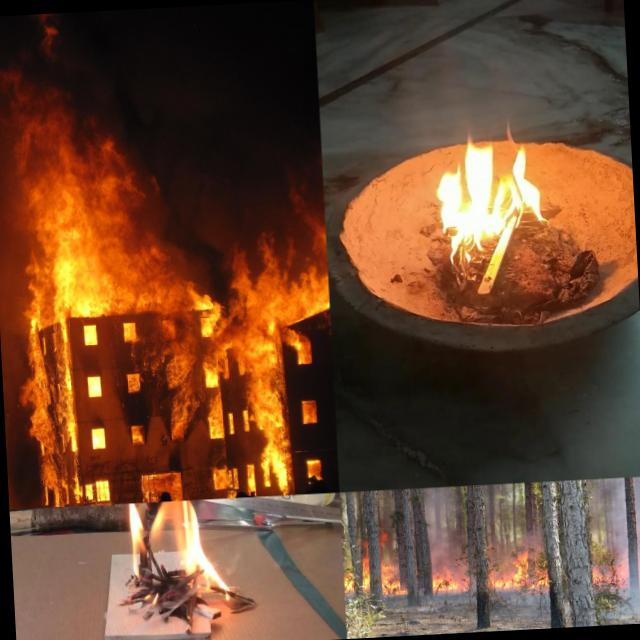fire: (1, 39, 244, 501), (232, 144, 340, 494), (428, 126, 544, 268), (126, 499, 229, 630), (496, 552, 530, 589), (432, 570, 460, 592), (382, 566, 400, 595), (614, 554, 630, 584)
smoke: (424, 487, 458, 570), (596, 478, 628, 550), (634, 476, 640, 557)
